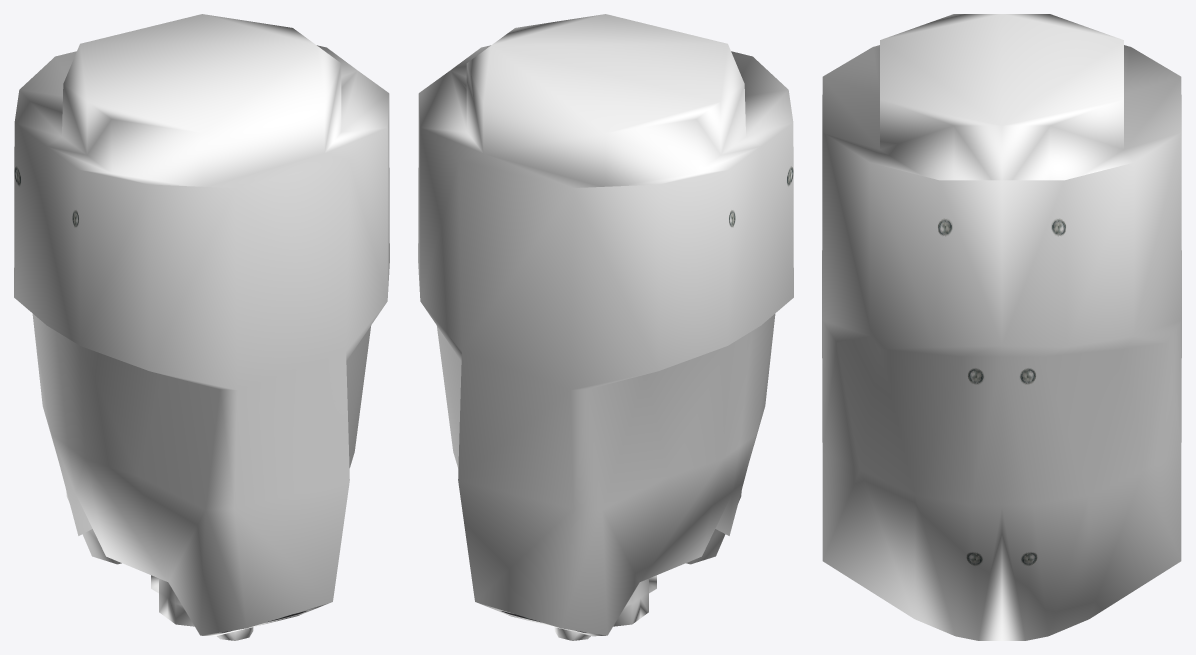
The model's file is aj5_right.obj.
3 views of the same model, side by side, from view 1: azimuth 30°, elevation 25°; view 2: azimuth 150°, elevation 25°; view 3: azimuth 270°, elevation 25° (orthographic).
Size of the model in its own units: 0.1295 by 0.2131 by 0.1299.
Materials: 1 (1 with a texture image).
